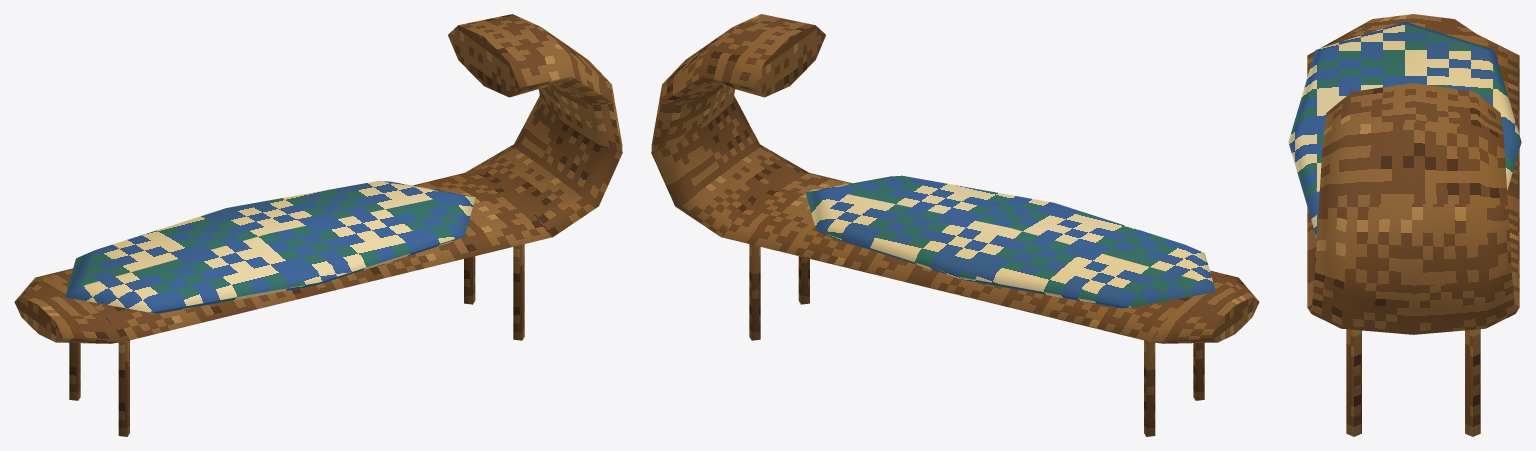
The model's file is seat_lounge.glb.
3 renders of one model, left to right at view 1: azimuth 30°, elevation 25°; view 2: azimuth 150°, elevation 25°; view 3: azimuth 270°, elevation 25°, orthographic. The views are drawn at different scales.
Visible parts, largest first — view 1: kit_bench_body, kit_bench_throw, kit_bench_legs; view 2: kit_bench_body, kit_bench_throw, kit_bench_legs; view 3: kit_bench_body, kit_bench_throw, kit_bench_legs.
Part boxes in pixels (x1,y1,x2,y2): kit_bench_body: [14, 14, 622, 343]; kit_bench_throw: [65, 181, 475, 313]; kit_bench_legs: [69, 244, 524, 436]; kit_bench_body: [651, 14, 1259, 343]; kit_bench_throw: [805, 175, 1215, 308]; kit_bench_legs: [749, 244, 1204, 436]; kit_bench_body: [1307, 14, 1519, 334]; kit_bench_throw: [1288, 21, 1521, 234]; kit_bench_legs: [1346, 329, 1480, 436].
Bounding box in the file's own units: 2.2 × 1.08 × 0.66.
2 materials, 2 textured.
